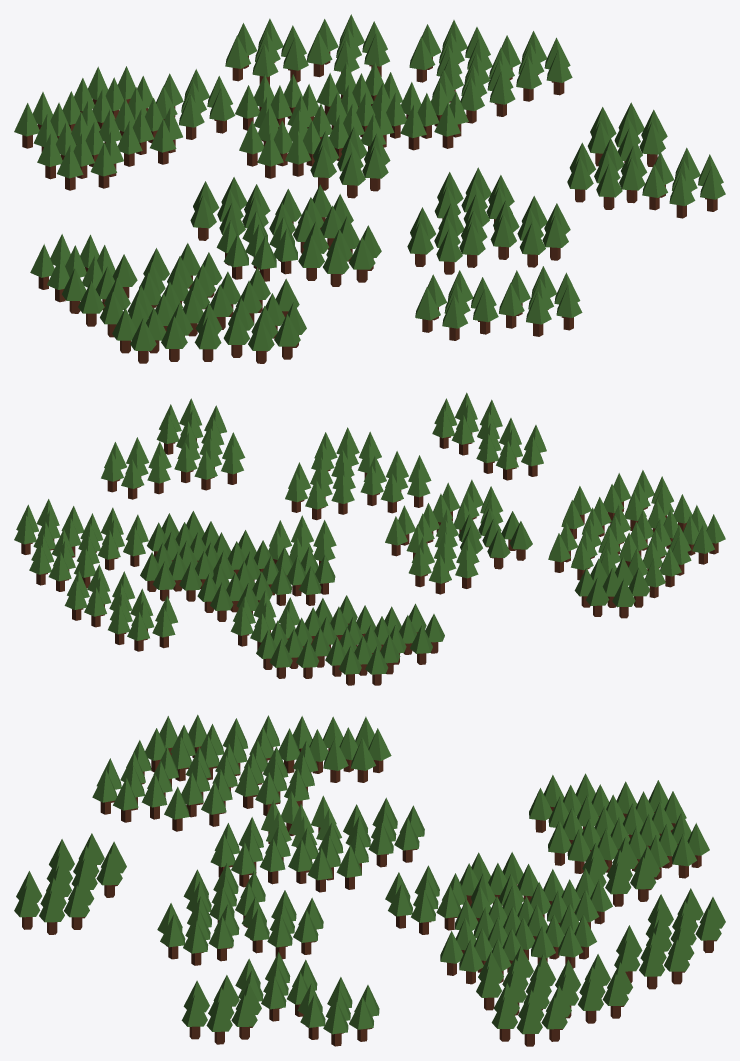
The model's file is SM_Forest.fbx.
3 renders of one model, top to bottom at view 1: azimuth 30°, elevation 25°; view 2: azimuth 150°, elevation 25°; view 3: azimuth 270°, elevation 25°, orthographic. The views are drawn at different scales.
Parts seen in each view (by area): view 1: Cylinder; view 2: Cylinder; view 3: Cylinder.
Part boxes in pixels (x1,y1,x2,y2): Cylinder: (14,14,725,363); Cylinder: (14,392,725,685); Cylinder: (14,714,725,1046).
Bounding box in the file's own units: 1.16 × 0.0785 × 1.17.
